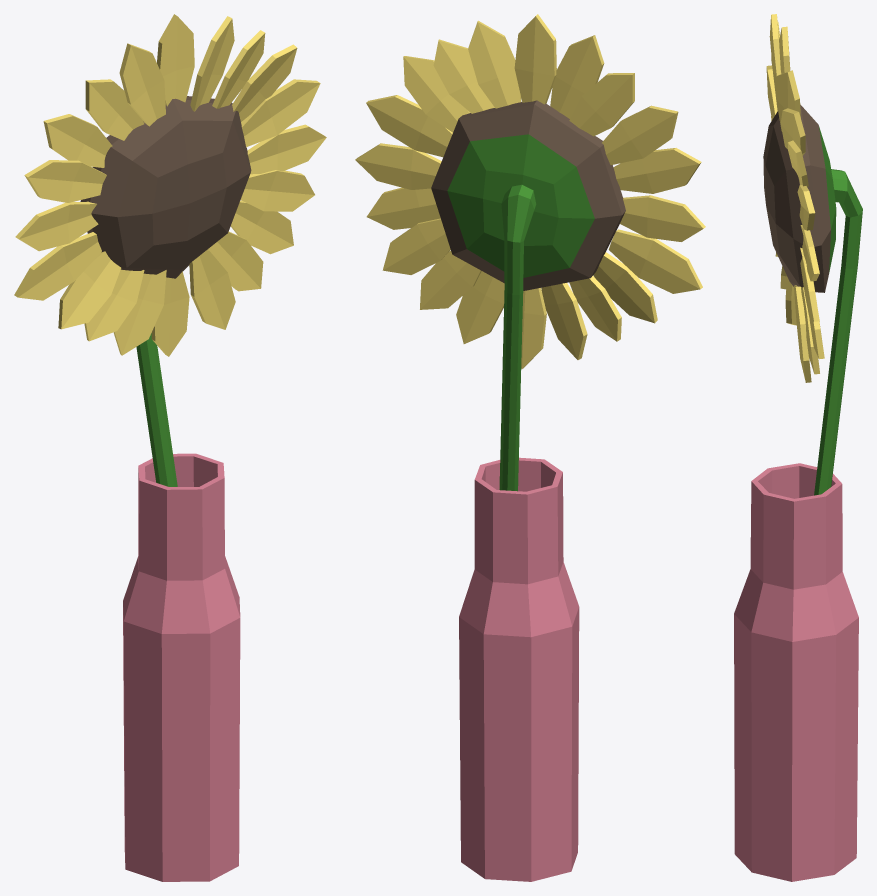
Rendered from Vase_with_sunflower.fbx.
3 views of the same model, side by side, from view 1: azimuth 30°, elevation 25°; view 2: azimuth 150°, elevation 25°; view 3: azimuth 270°, elevation 25° (orthographic). The views are drawn at different scales.
Visible parts, largest first — view 1: Vase_with_sunflower; view 2: Vase_with_sunflower; view 3: Vase_with_sunflower.
Part boxes in pixels (x1,y1,x2,y2): Vase_with_sunflower: [14, 14, 326, 881]; Vase_with_sunflower: [355, 14, 705, 881]; Vase_with_sunflower: [734, 14, 862, 881].
Bounding box in the file's own units: 27.92 × 9.72 × 68.74.
